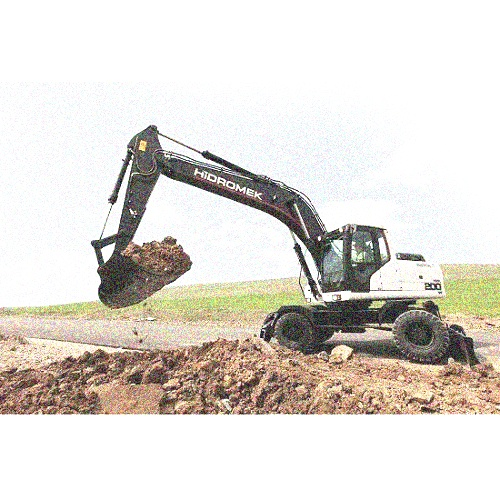Excavadora: (90, 123, 450, 362)
